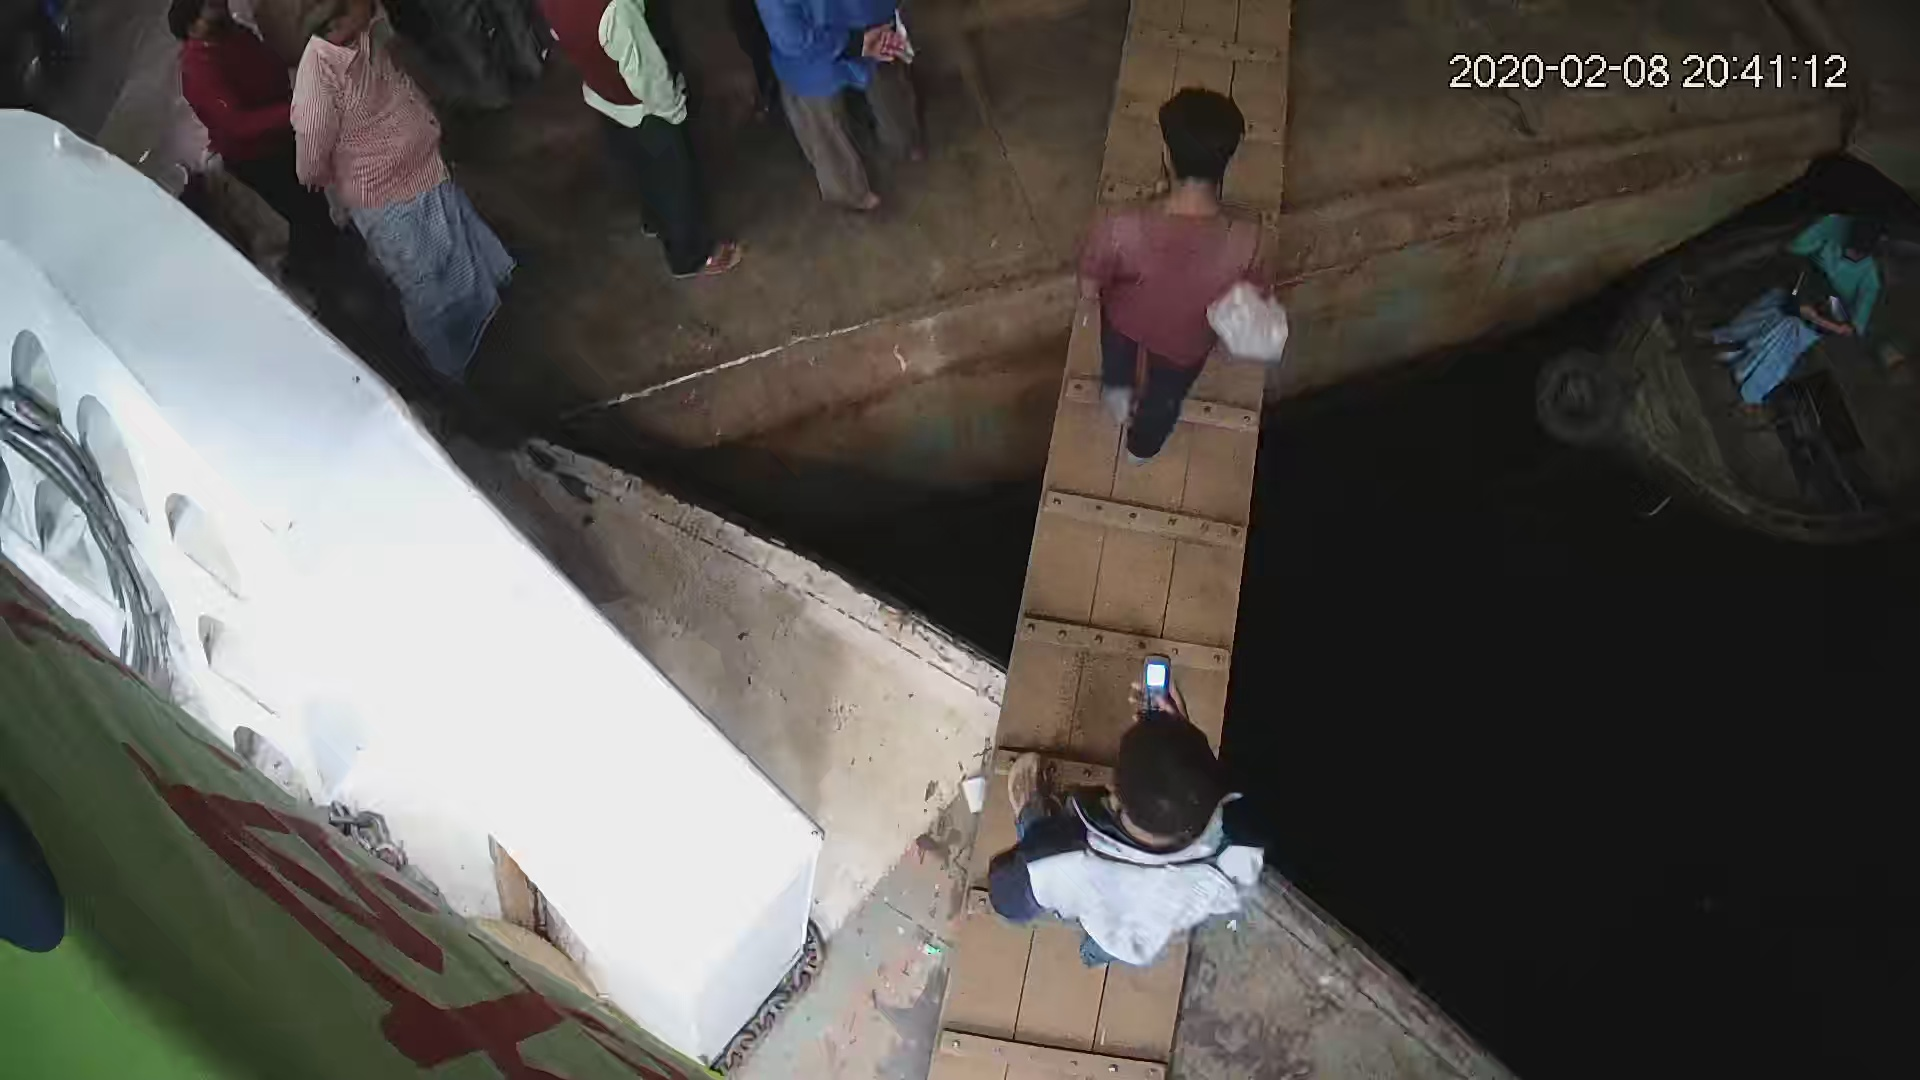person: (979, 643, 1269, 980), (284, 1, 513, 386), (1079, 86, 1259, 472), (540, 9, 738, 291), (1698, 195, 1886, 409)
